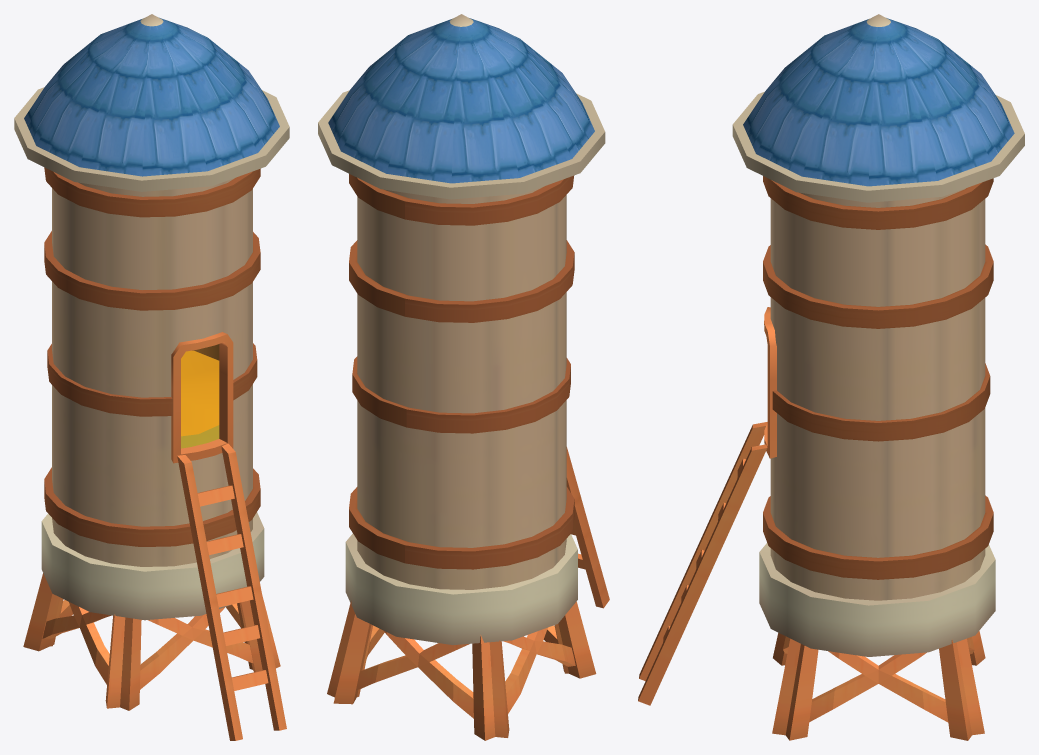
Rendered from Silo.fbx.
3 renders of one model, left to right at view 1: azimuth 30°, elevation 25°; view 2: azimuth 150°, elevation 25°; view 3: azimuth 270°, elevation 25°, orthographic. The views are drawn at different scales.
Parts seen in each view (by area): view 1: Silo; view 2: Silo; view 3: Silo.
Part boxes in pixels (x1,y1,x2,y2): Silo: (14,14,289,740); Silo: (318,14,609,740); Silo: (638,14,1024,740).
Size of the model in its own units: 373 by 962 by 494.
